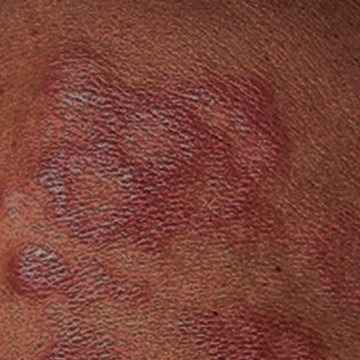Leprosy: (25, 39, 302, 247), (0, 241, 155, 313), (174, 301, 324, 359)
